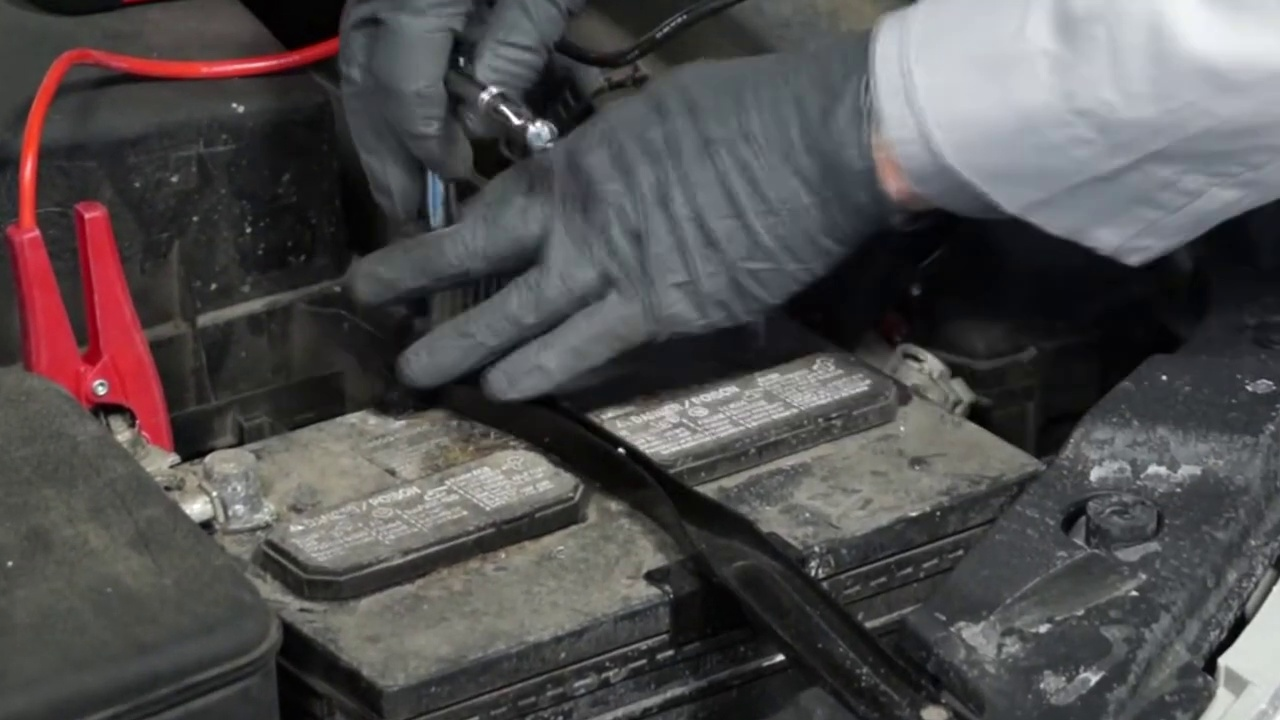battery: (131, 285, 1055, 629)
pos_disconnected: (15, 225, 268, 526)
